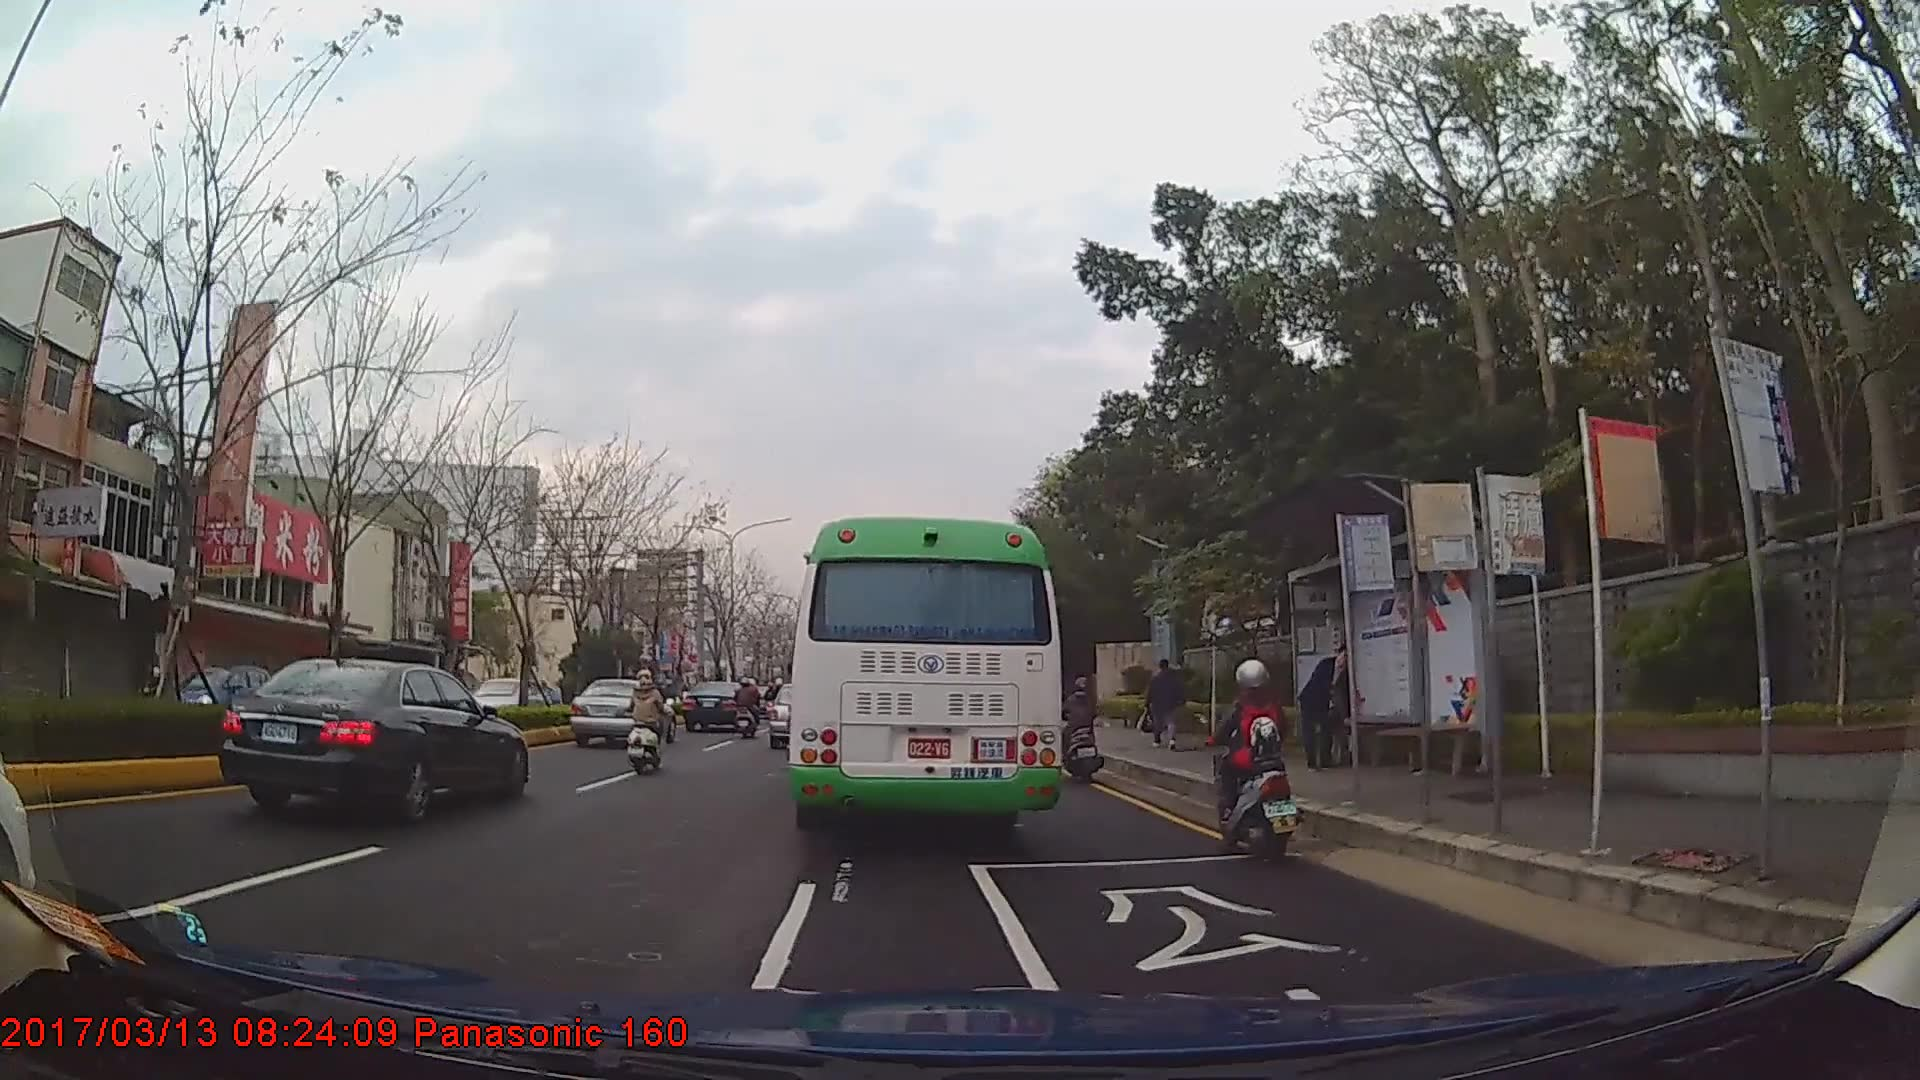pedestrian: (1302, 641, 1359, 774), (1140, 655, 1186, 750)
rider: (1204, 662, 1306, 860), (1058, 674, 1106, 785), (628, 669, 673, 773), (735, 677, 760, 738), (139, 668, 165, 699)
vehicle: (788, 515, 1063, 837), (210, 659, 526, 821), (157, 658, 271, 733), (570, 677, 677, 748), (454, 672, 551, 730), (682, 677, 749, 731)
